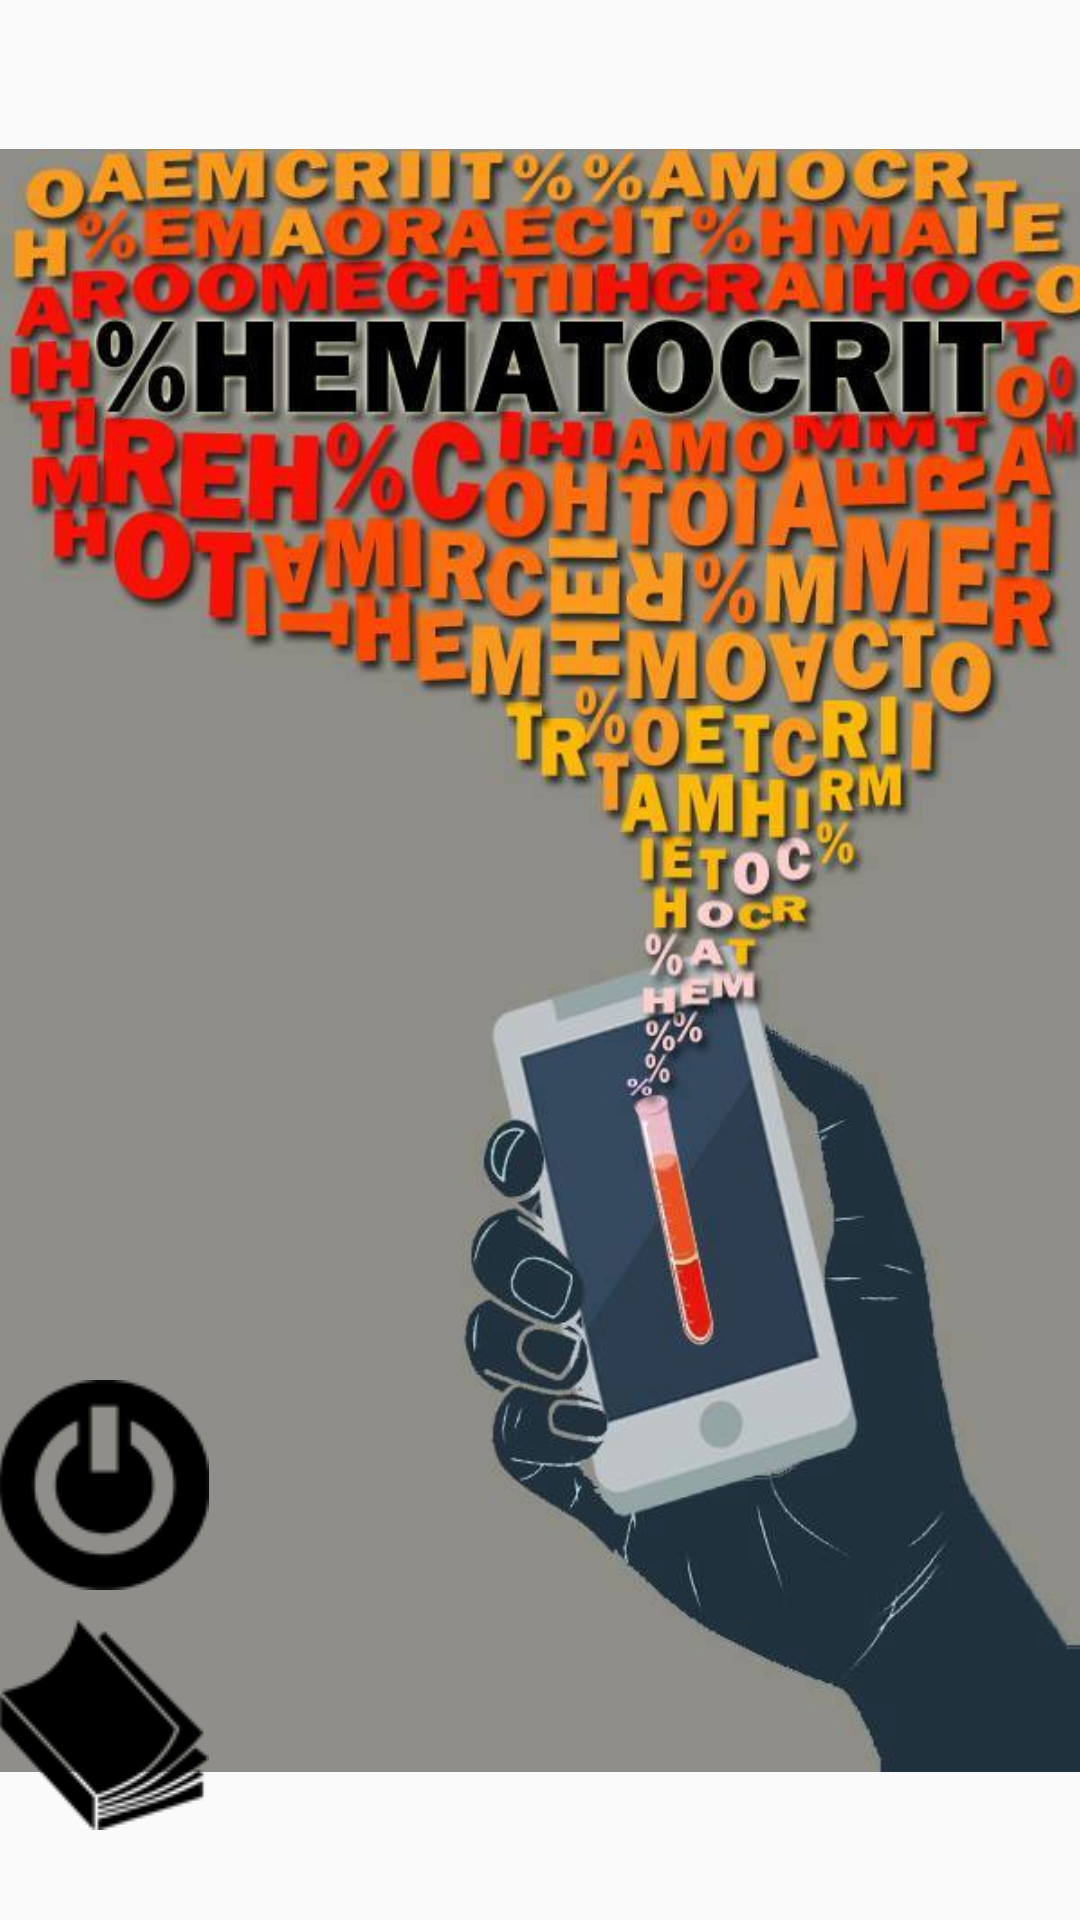

Point at icon controls on the screen. Image size 1080×1920, points as (x=x, y=y).
manual: (x=104, y=1725)
power: (x=104, y=1485)
